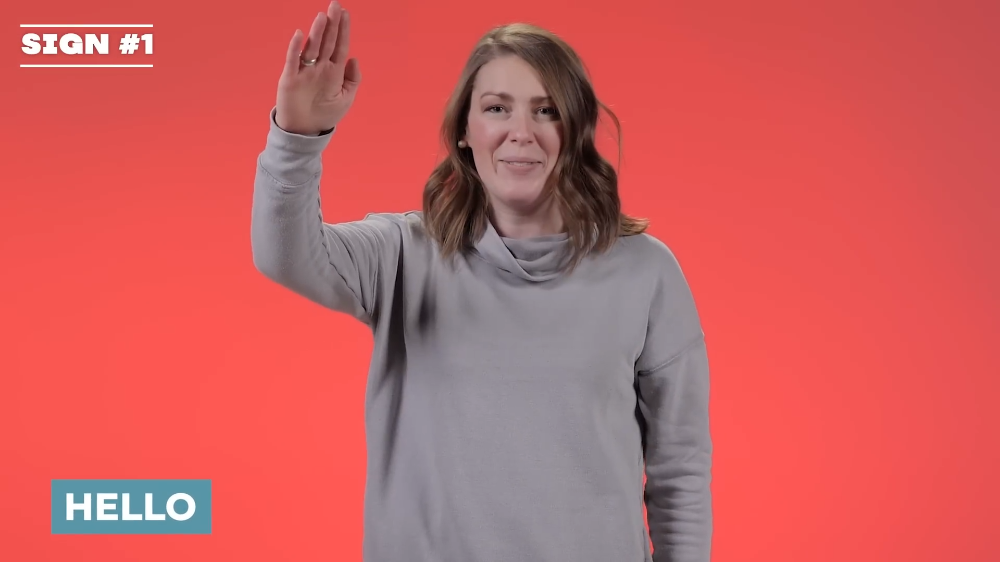hello: (270, 1, 366, 137)
